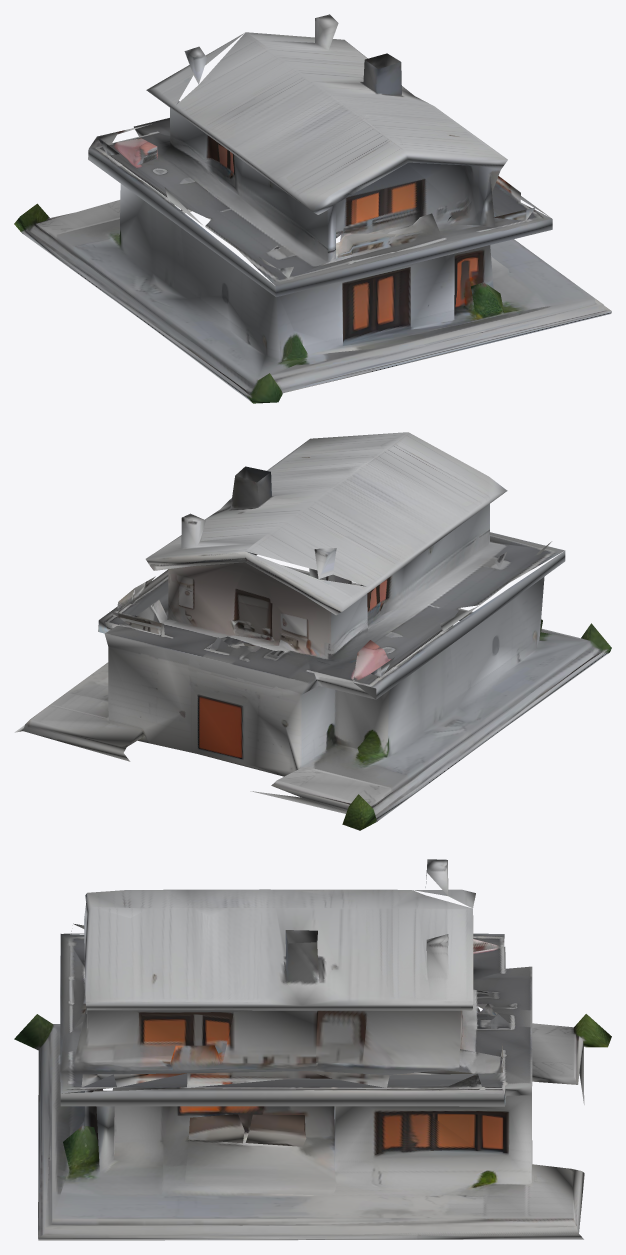
The model's file is 白色民房961面.glb.
3 views of the same model, one above another, from view 1: azimuth 30°, elevation 25°; view 2: azimuth 150°, elevation 25°; view 3: azimuth 270°, elevation 25° (orthographic). The views are drawn at different scales.
Parts seen in each view (by area): view 1: mesh_0; view 2: mesh_0; view 3: mesh_0.
Boxes of the visible parts, <box> form: mesh_0: <box>14,14,611,403</box>; mesh_0: <box>14,432,611,830</box>; mesh_0: <box>14,859,611,1240</box>.
Bounding box in the file's own units: 0.8342 × 0.4439 × 1.01.
Materials: 1 (1 with a texture image).
